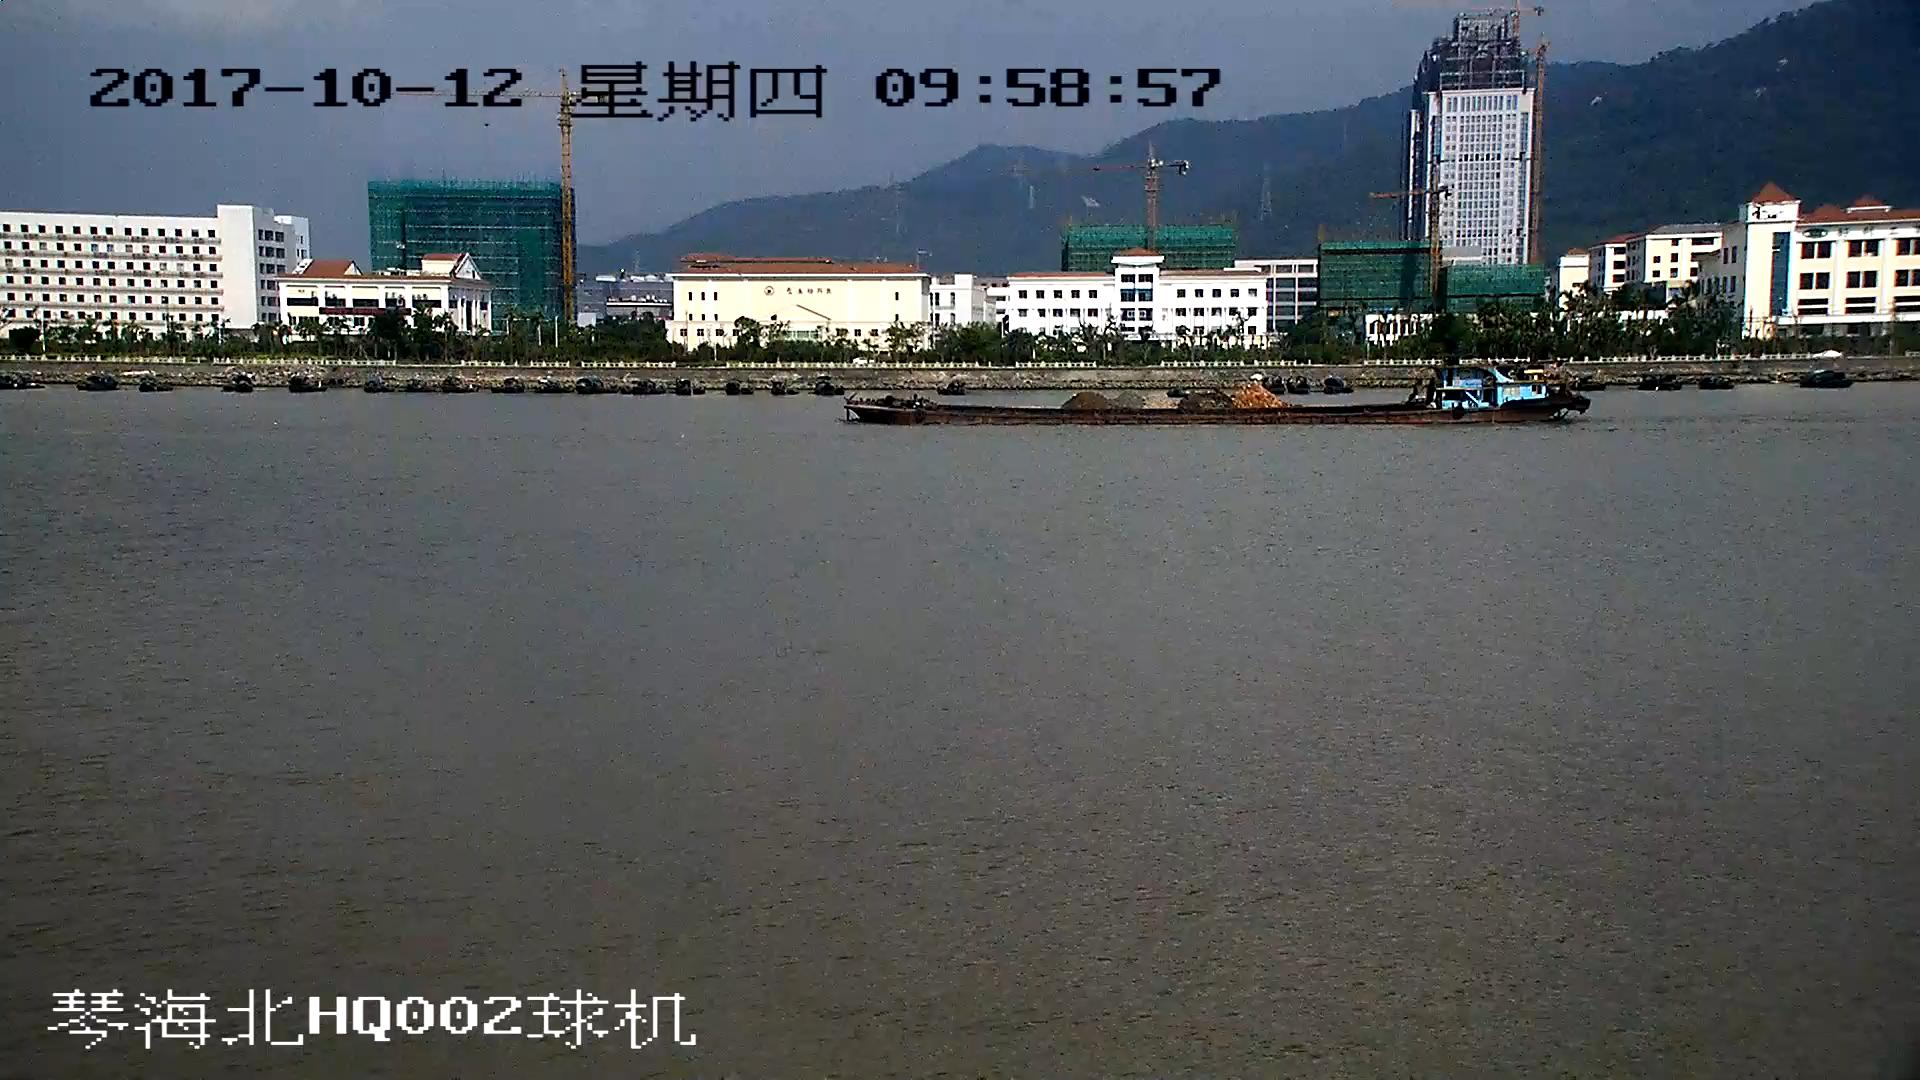ore carrier: (848, 368, 1587, 427)
